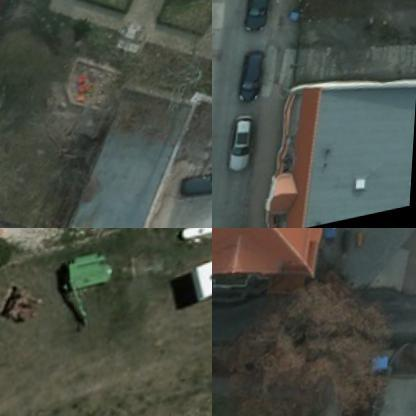car: (220, 115, 265, 178), (232, 49, 270, 110), (239, 0, 279, 37), (174, 169, 211, 208)
